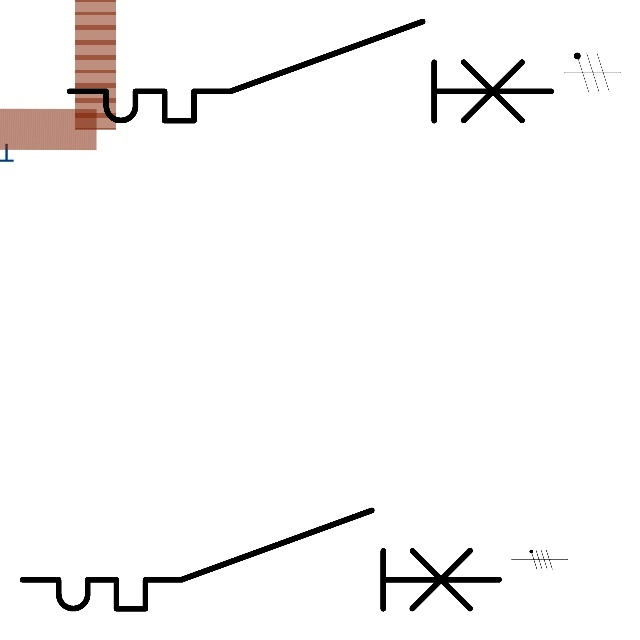interruptor_termomagnetico: (57, 9, 563, 133), (10, 498, 512, 621)
